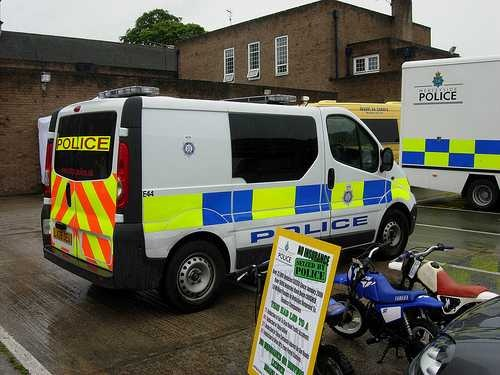Police Van: (39, 81, 417, 285), (397, 46, 500, 200)
